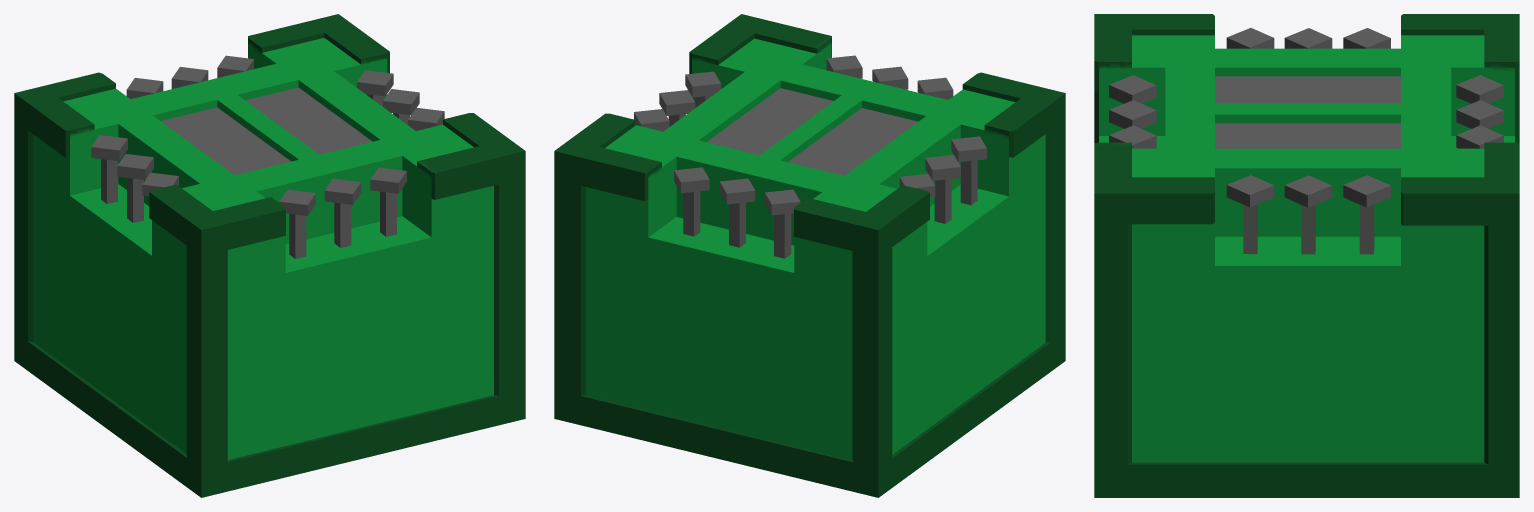
The model's file is Ammo Pickup.fbx.
3 views of the same model, side by side, from view 1: azimuth 30°, elevation 25°; view 2: azimuth 150°, elevation 25°; view 3: azimuth 270°, elevation 25° (orthographic). The views are drawn at different scales.
Visible parts, largest first — view 1: Box, Screw2, Screw3, Screw12, Screw1, Screw11, Screw7, Screw8, Screw9, Screw4, Screw6, Screw5; view 2: Box, Screw6, Screw10, Screw11, Screw4, Screw5, Screw8, Screw9, Screw3, Screw2, Screw1, Screw7; view 3: Box, Screw7, Screw8, Screw9, Screw4, Screw2, Screw5, Screw1, Screw10, Screw11, Screw6, Screw12 (+1 smaller).
Boxes of the visible parts, x1,y1,x2,y2 form: Box: [14, 14, 525, 497]; Screw2: [324, 178, 361, 247]; Screw3: [370, 167, 406, 236]; Screw12: [91, 135, 127, 203]; Screw1: [279, 189, 315, 258]; Screw11: [117, 154, 153, 222]; Screw7: [357, 70, 393, 106]; Screw8: [383, 89, 419, 124]; Screw9: [408, 107, 444, 130]; Screw4: [171, 66, 208, 88]; Screw6: [217, 55, 253, 77]; Screw5: [126, 78, 163, 98]; Box: [554, 14, 1065, 497]; Screw6: [674, 167, 709, 236]; Screw10: [951, 136, 986, 205]; Screw11: [925, 155, 960, 223]; Screw4: [719, 178, 755, 247]; Screw5: [764, 189, 800, 258]; Screw8: [659, 90, 695, 126]; Screw9: [685, 71, 721, 107]; Screw3: [826, 55, 862, 78]; Screw2: [872, 66, 908, 89]; Screw1: [917, 77, 953, 99]; Screw7: [634, 109, 669, 131]; Box: [1094, 14, 1519, 497]; Screw7: [1343, 175, 1390, 254]; Screw8: [1284, 175, 1332, 254]; Screw9: [1226, 175, 1274, 254]; Screw4: [1456, 100, 1503, 128]; Screw2: [1109, 100, 1156, 128]; Screw5: [1456, 75, 1503, 103]; Screw1: [1109, 75, 1156, 103]; Screw10: [1226, 28, 1274, 48]; Screw11: [1284, 28, 1332, 48]; Screw6: [1456, 125, 1503, 148]; Screw12: [1343, 28, 1390, 48].
Size of the model in its own units: 0.0304 by 0.024 by 0.0304.
1 material, 1 textured.
